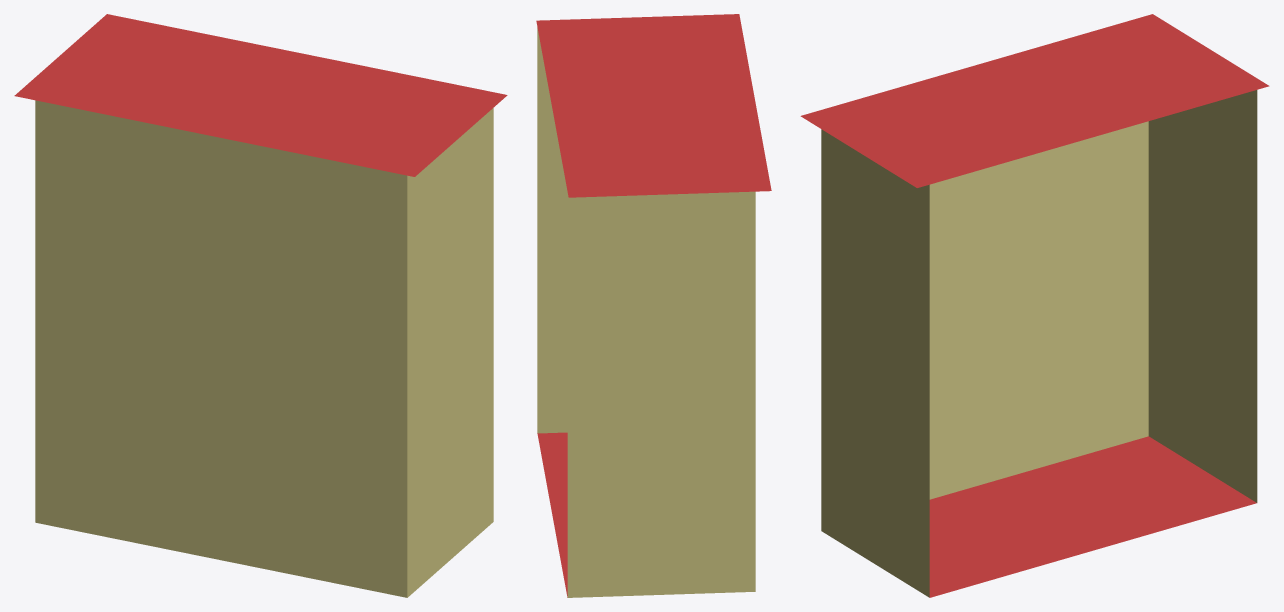
The picture shows the model from 3 angles, left to right: view 1: azimuth 30°, elevation 25°; view 2: azimuth 150°, elevation 25°; view 3: azimuth 270°, elevation 25°; orthographic projection. The views are drawn at different scales.
Bounding box in the file's own units: 6.77 × 7.71 × 7.48.
